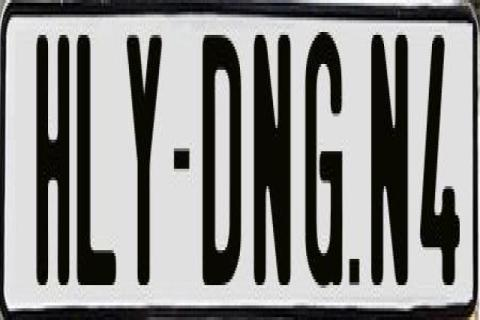0: (421, 27, 461, 286)
D: (202, 29, 242, 285)
G: (304, 24, 344, 282)
H: (33, 32, 73, 300)
L: (75, 27, 115, 280)
N: (369, 32, 411, 291), (250, 27, 288, 286)
Y: (128, 35, 168, 299)
